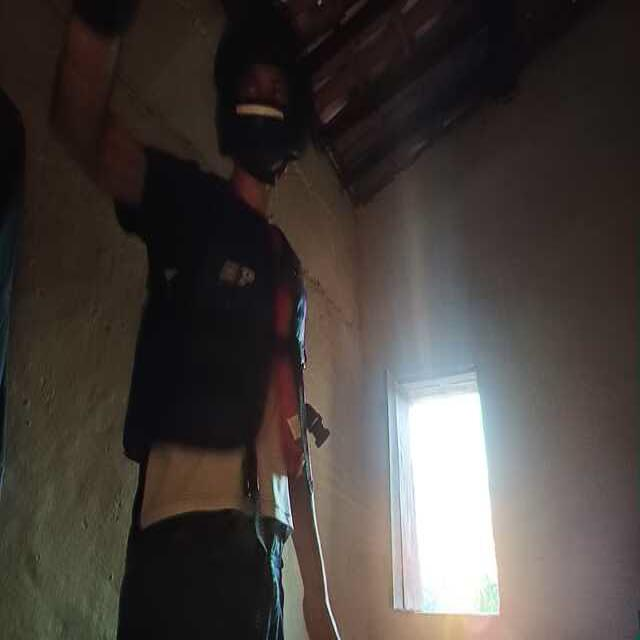capacete: (210, 0, 317, 172)
colete: (129, 178, 314, 477)
pessoa: (60, 0, 348, 640)
